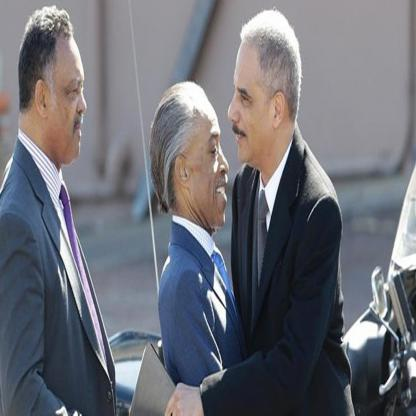face: (45, 32, 86, 163), (230, 40, 273, 163), (189, 100, 229, 227)
